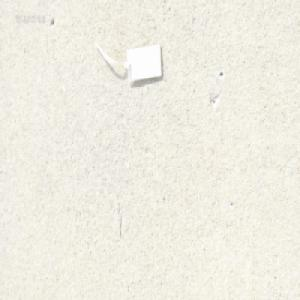LuggageTag: (91, 41, 163, 87)
